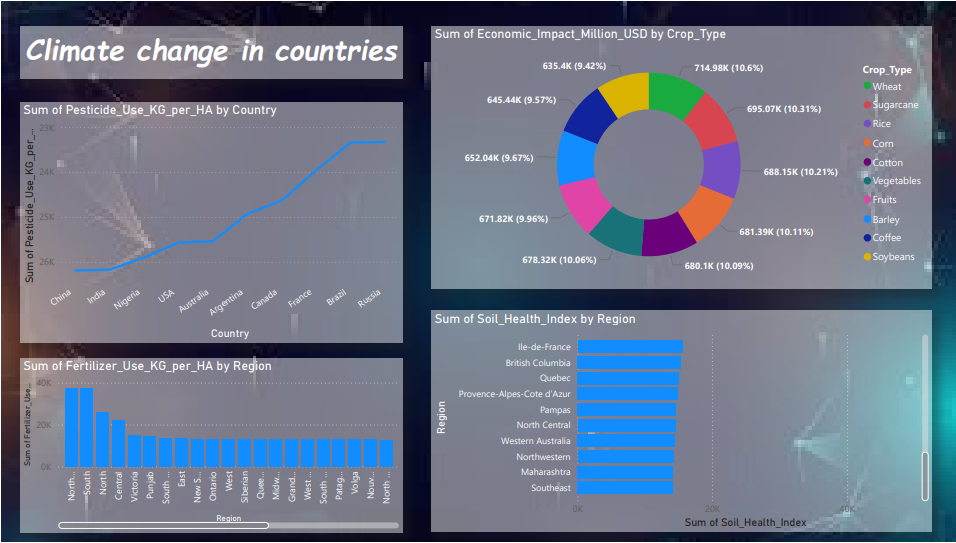

What the dashboard file says about the page in this screenshot:
{"tool":"tableau","page":{"name":"Dashboard 1","canvas":[2500,1000],"ordinal":0},"visuals":[{"type":"text","box":[43,12,596,42]},{"type":"worksheet","title":"Sheet 4","mark":"Automatic","box":[1724,36,600,360]},{"type":"worksheet","title":"Sheet 7","mark":"Line","rows":["Economic_Impact_Million_USD"],"cols":["Crop_Type"],"box":[976,39,715,355]},{"type":"worksheet","title":"Sheet 8","mark":"Automatic","rows":["climate_change_impact_on_agriculture_2024.csv_0D8D1C8A2F3A48"],"cols":["Country"],"box":[41,60,906,344]},{"type":"worksheet","title":"Sheet 6","mark":"Automatic","rows":["Region"],"cols":["Fertilizer_Use_KG_per_HA"],"box":[43,431,909,463]},{"type":"worksheet","title":"Sheet 5","mark":"Automatic","box":[973,445,730,448]},{"type":"worksheet","title":"Sheet 2","mark":"Automatic","rows":["Average_Temperature_C","Economic_Impact_Million_USD"],"cols":["Year"],"box":[1742,449,569,446]}]}

Visuals, with their boxes on the page's 2500x1000 design canvas (x1, y1, x2, y2). These are canvas units, not pixel positions in the 956x543 screenshot, which may show the page scaled, cropped or inside an application window:
text: {"left": 43, "top": 12, "right": 639, "bottom": 54}
"Sheet 4" worksheet: {"left": 1724, "top": 36, "right": 2324, "bottom": 396}
"Sheet 7" worksheet (Line marks): {"left": 976, "top": 39, "right": 1691, "bottom": 394}
"Sheet 8" worksheet: {"left": 41, "top": 60, "right": 947, "bottom": 404}
"Sheet 6" worksheet: {"left": 43, "top": 431, "right": 952, "bottom": 894}
"Sheet 5" worksheet: {"left": 973, "top": 445, "right": 1703, "bottom": 893}
"Sheet 2" worksheet: {"left": 1742, "top": 449, "right": 2311, "bottom": 895}
